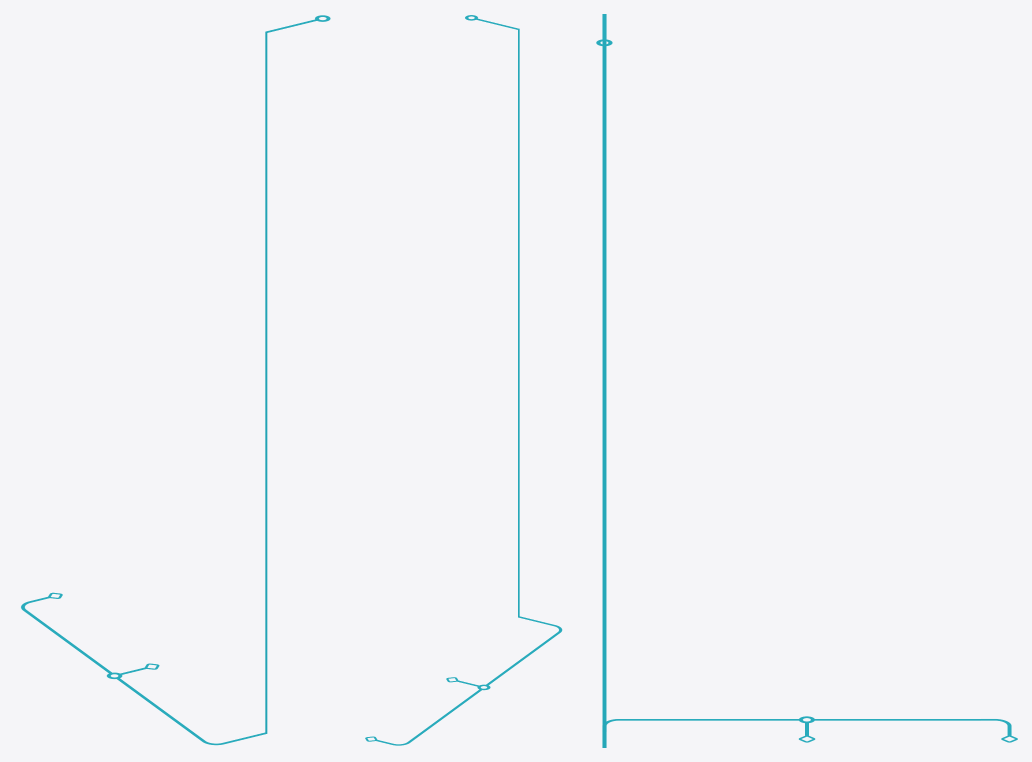
File: 6_1_cl_inactive.glb
3 views of the same model, side by side, from view 1: azimuth 30°, elevation 25°; view 2: azimuth 150°, elevation 25°; view 3: azimuth 270°, elevation 25° (orthographic). The views are drawn at different scales.
Visible parts, largest first — view 1: 6_1_cl_inactive; view 2: 6_1_cl_inactive; view 3: 6_1_cl_inactive.
Part boxes in pixels (box(x1,y1,x2,y2)): 6_1_cl_inactive: box(21, 15, 330, 745); 6_1_cl_inactive: box(365, 15, 562, 745); 6_1_cl_inactive: box(596, 14, 1017, 747).
Size of the model in its own units: 2.99 by 16 by 8.33.
1 material, 1 textured.
